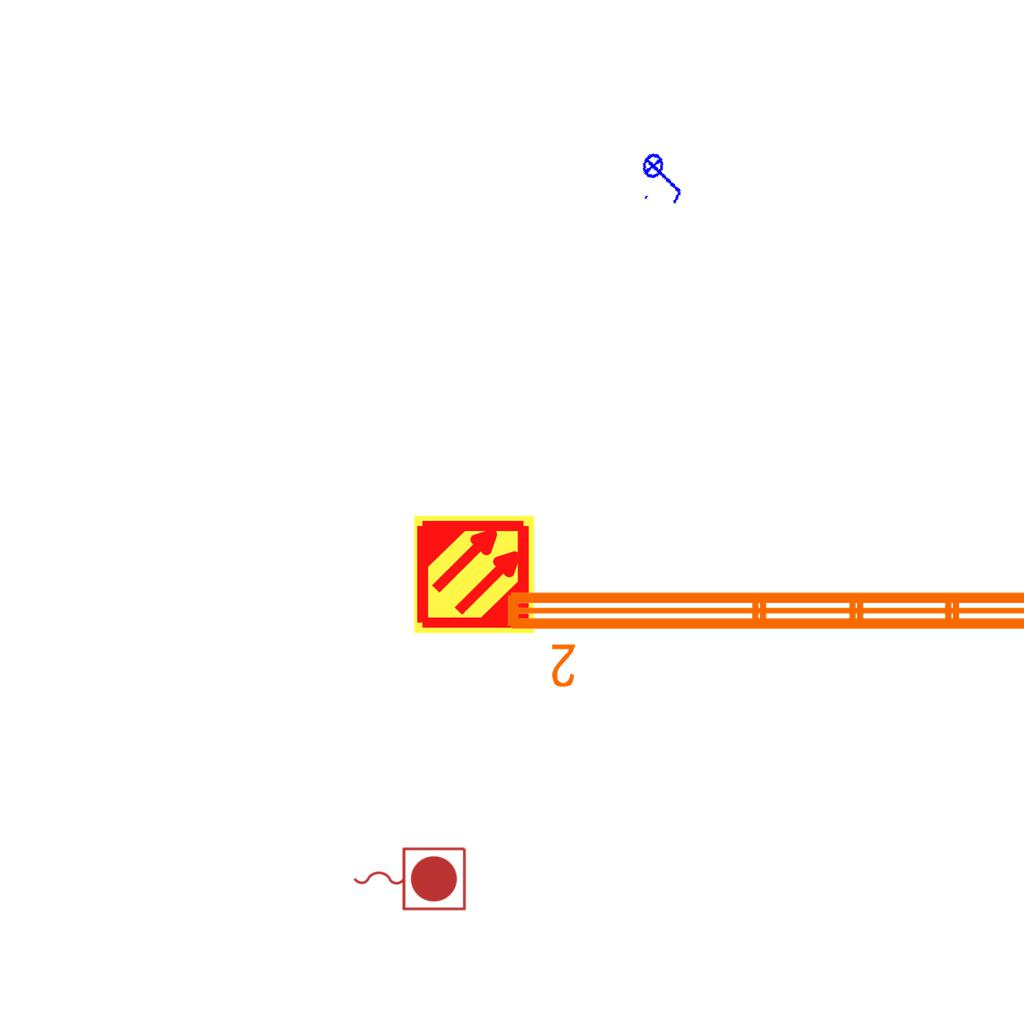ASR_Ansaugrauchmelder: (412, 512, 537, 637)
Ambulanz_Pendelleuchte_LED: (499, 580, 1024, 692)
Ausschalter_beleuchtet: (634, 144, 694, 210)
Zugtaster: (348, 842, 470, 914)
